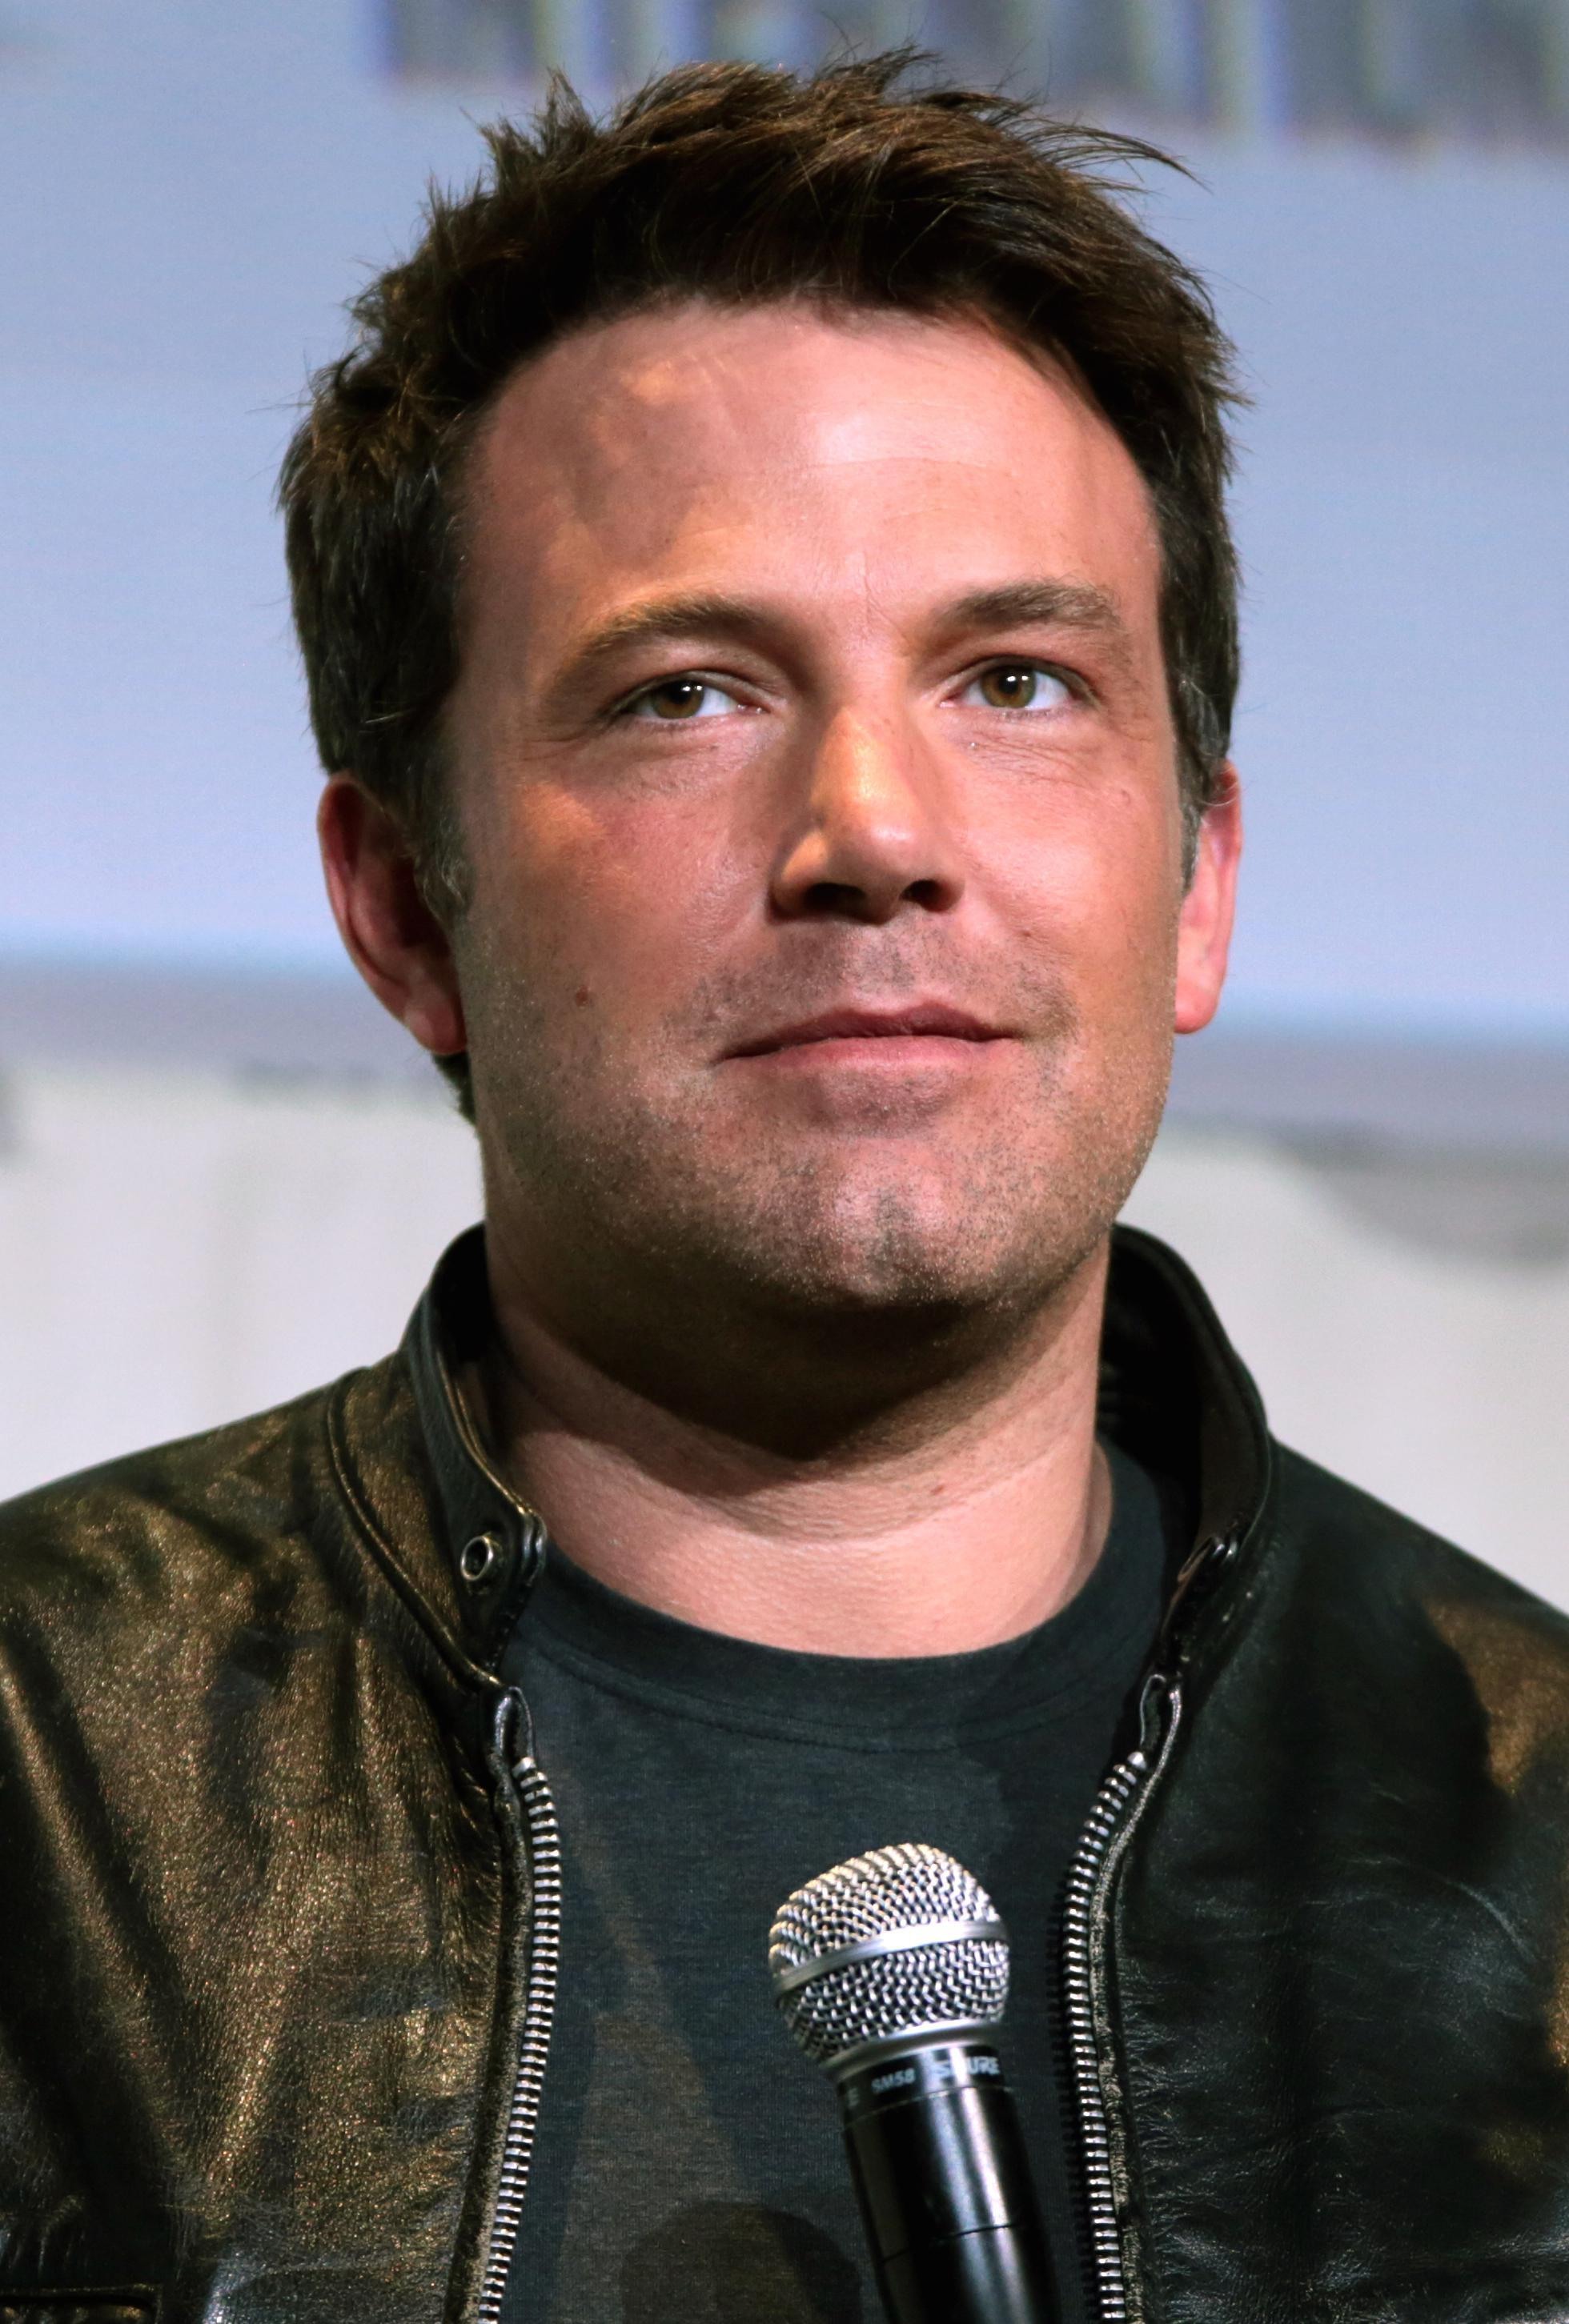Sober: (494, 345, 1180, 1295)
